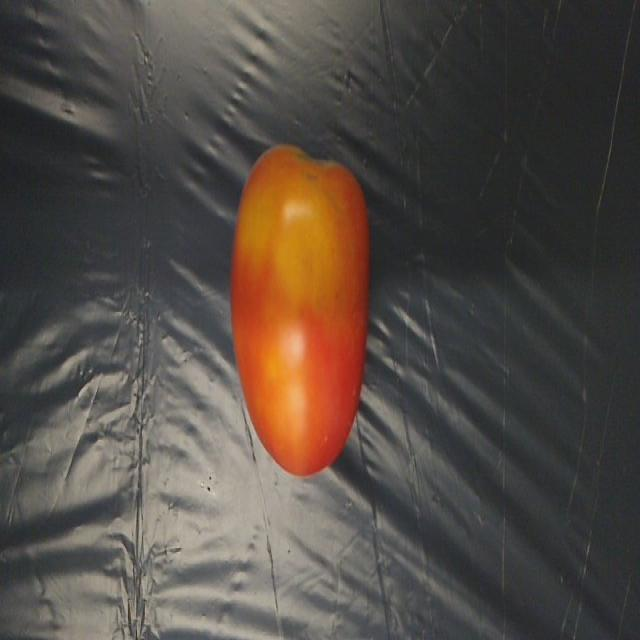sari: (230, 137, 386, 501)
